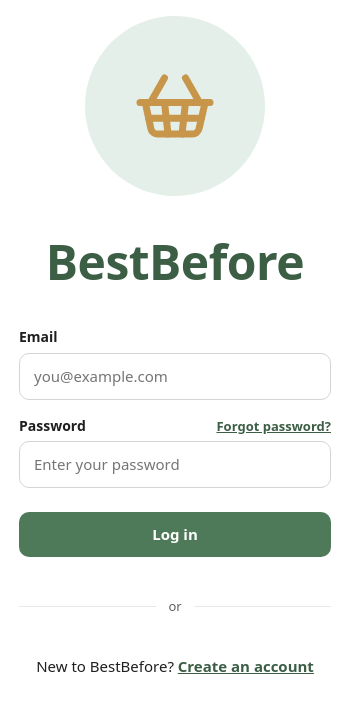
Test: Login › shows an inline error for an invalid email
Type "not-an-email" into the field labelled "Email" at (175, 376), box 19,353 -> 331,400
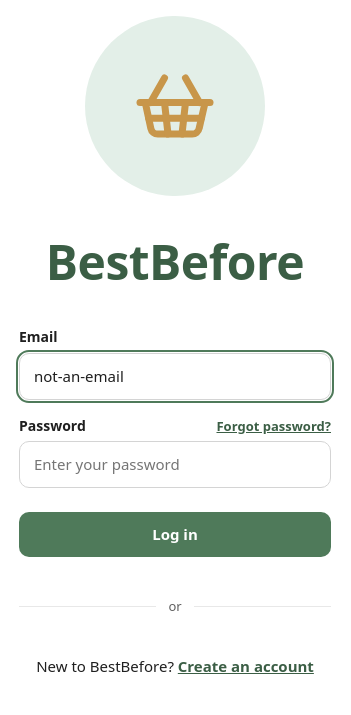
Type "password123" into the password field labelled "Password" at (175, 465), box 19,441 -> 331,488
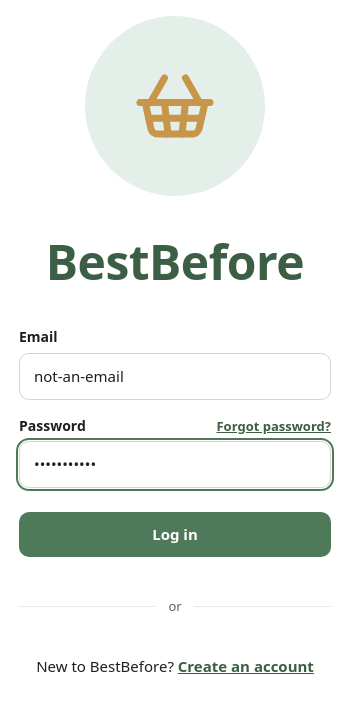
Click the button "Log in" at (175, 535), box 19,512 -> 331,557
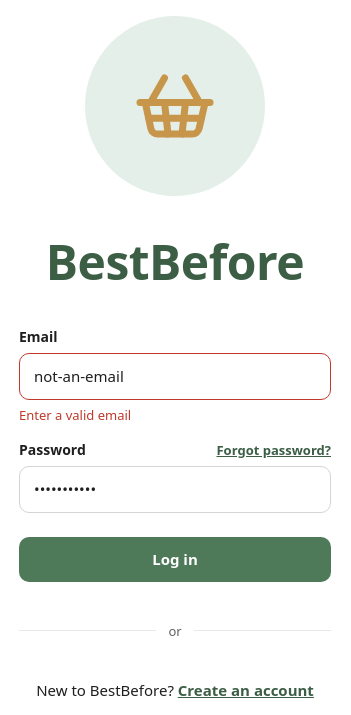
Now the text "Enter a valid email" is shown, box 19,406 -> 131,424
